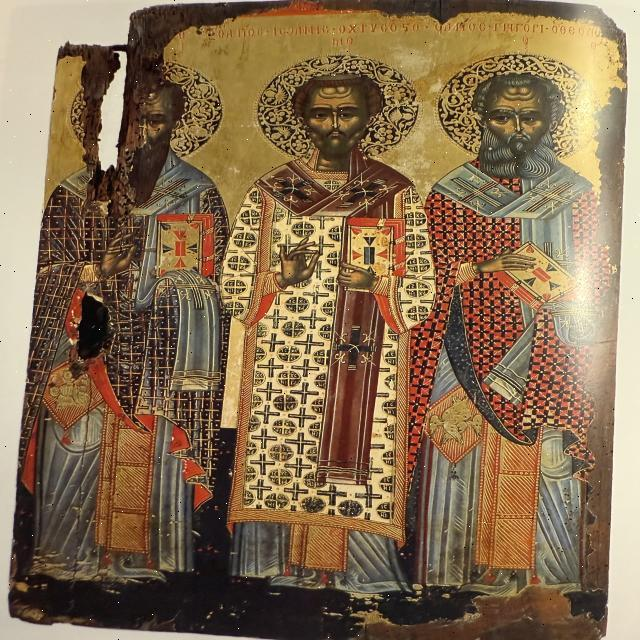aura: (250, 56, 424, 165), (442, 54, 600, 165)
book: (476, 240, 586, 311), (334, 212, 408, 296), (147, 210, 221, 284)
church_father: (433, 51, 621, 595), (234, 51, 422, 585), (40, 52, 225, 586)
